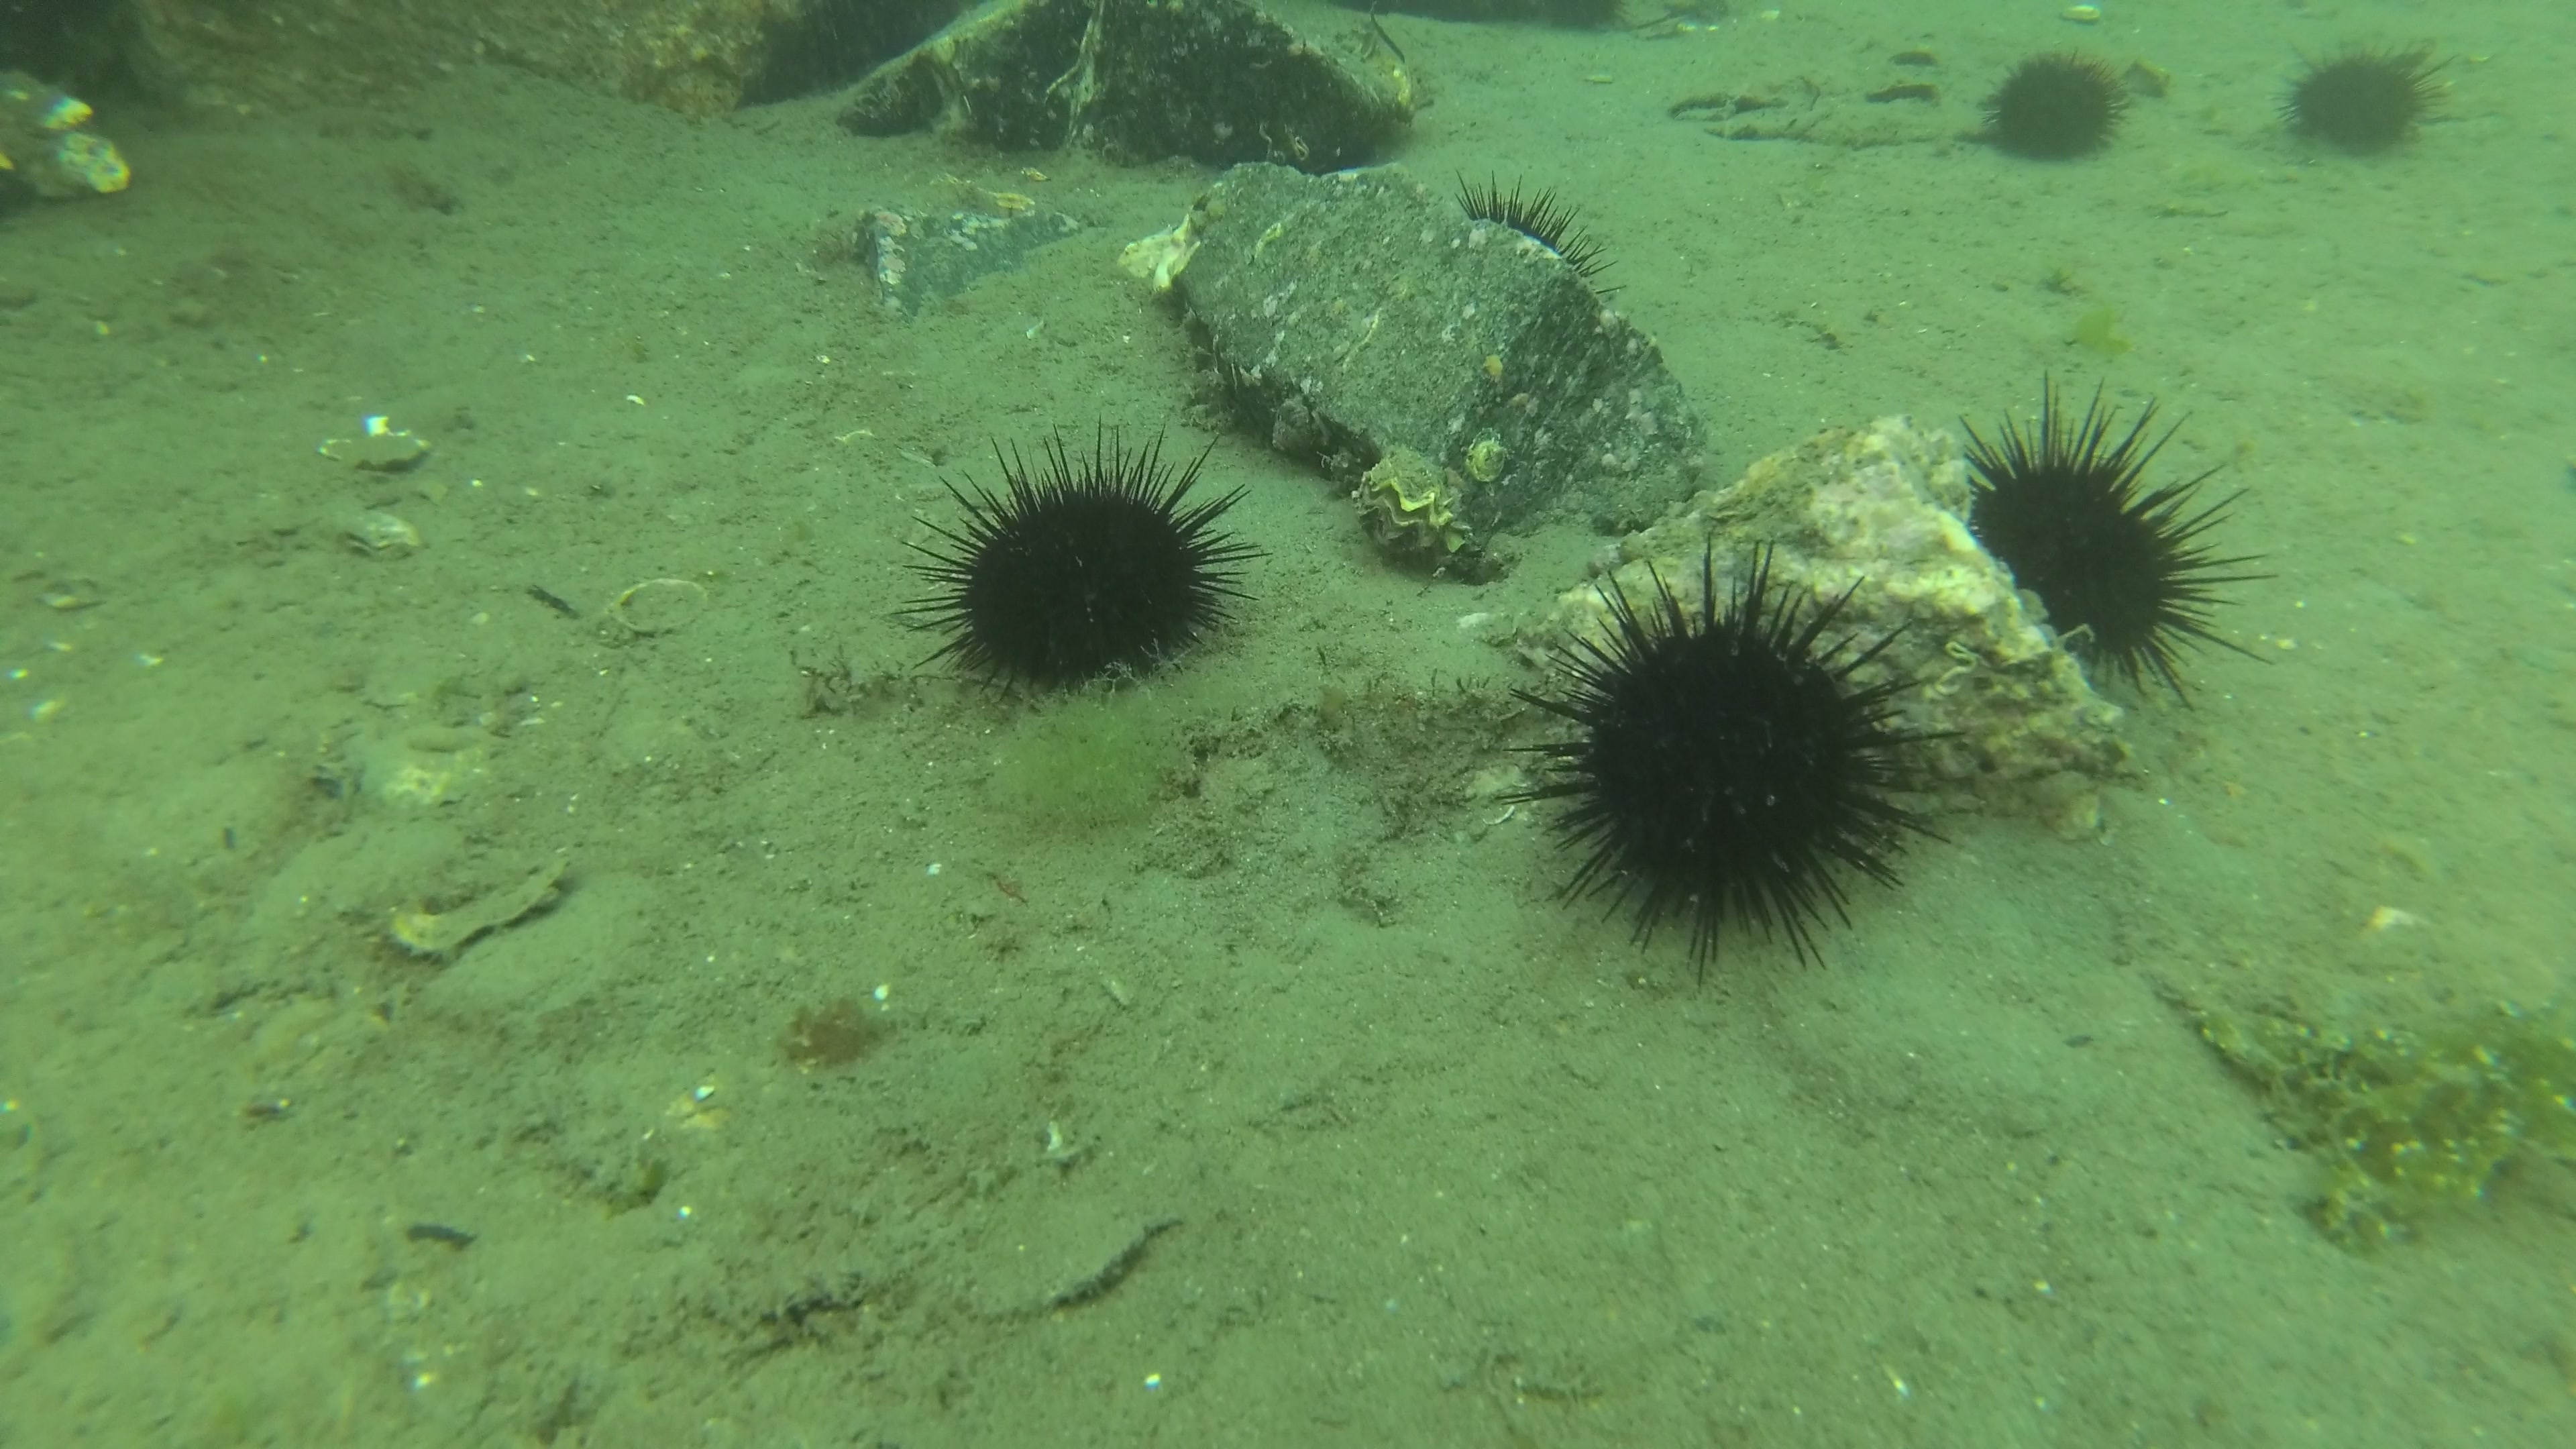echinus: (1499, 536, 1974, 1000), (1914, 364, 2263, 715), (895, 430, 1277, 708), (1407, 177, 1601, 350), (2273, 39, 2461, 168), (1967, 48, 2141, 166)
